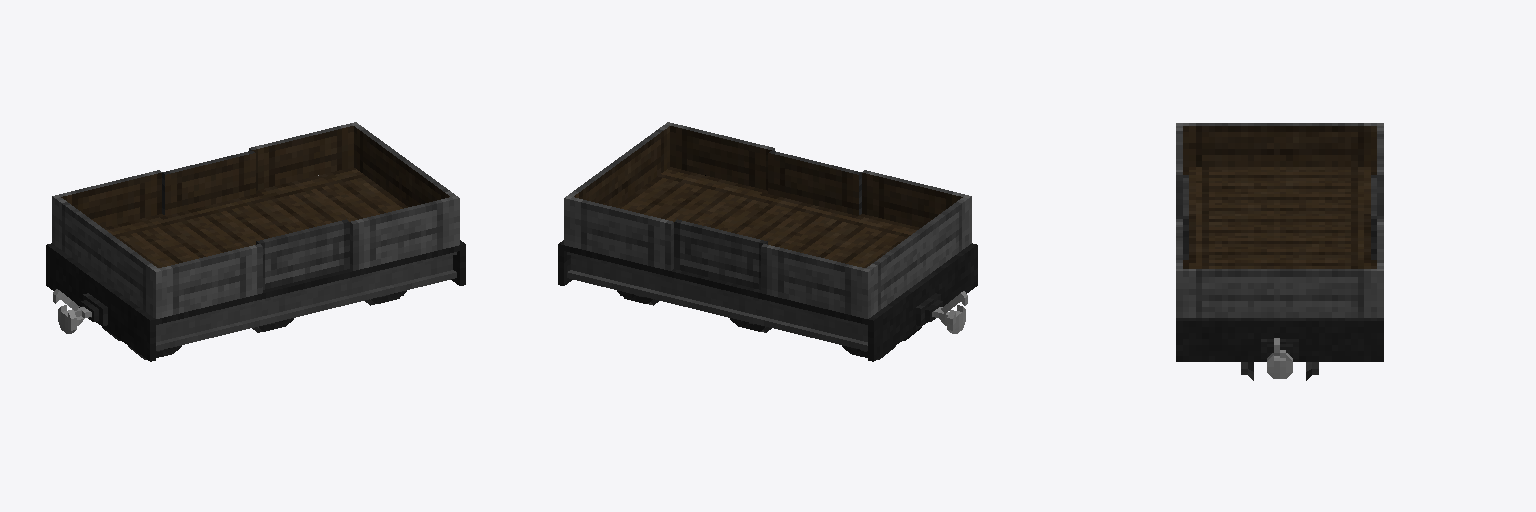
3 renders of one model, left to right at view 1: azimuth 30°, elevation 25°; view 2: azimuth 150°, elevation 25°; view 3: azimuth 270°, elevation 25°, orthographic.
Visible parts, largest first — view 1: SHELL_WOOD, FRAME, DOOR_2_TL_-1_X_EXTERNAL, DOOR_1_TL_1_X_EXTERNAL, COUPLER_ENGAGED_FRONT_1_TOGGLE_LABEL_Uncouple; view 2: SHELL_WOOD, FRAME, DOOR_1_TL_1_X_EXTERNAL, DOOR_2_TL_-1_X_EXTERNAL, COUPLER_ENGAGED_FRONT_1_TOGGLE_LABEL_Uncouple; view 3: SHELL_WOOD, FRAME, COUPLER_ENGAGED_REAR_2_TOGGLE_LABEL_Uncouple.
Boxes of the visible parts, <box> form: SHELL_WOOD: <box>52,122,459,318</box>; FRAME: <box>46,240,465,361</box>; DOOR_2_TL_-1_X_EXTERNAL: <box>256,219,349,289</box>; DOOR_1_TL_1_X_EXTERNAL: <box>162,151,255,215</box>; COUPLER_ENGAGED_FRONT_1_TOGGLE_LABEL_Uncouple: <box>58,293,107,333</box>; SHELL_WOOD: <box>564,122,971,318</box>; FRAME: <box>558,240,977,361</box>; DOOR_1_TL_1_X_EXTERNAL: <box>674,219,767,289</box>; DOOR_2_TL_-1_X_EXTERNAL: <box>768,151,861,215</box>; COUPLER_ENGAGED_FRONT_1_TOGGLE_LABEL_Uncouple: <box>916,293,965,333</box>; SHELL_WOOD: <box>1176,123,1383,317</box>; FRAME: <box>1176,318,1383,361</box>; COUPLER_ENGAGED_REAR_2_TOGGLE_LABEL_Uncouple: <box>1261,339,1298,378</box>.
Bounding box in the file's own units: 4.5 × 1.38 × 2.
Materials: 3 (3 with a texture image).